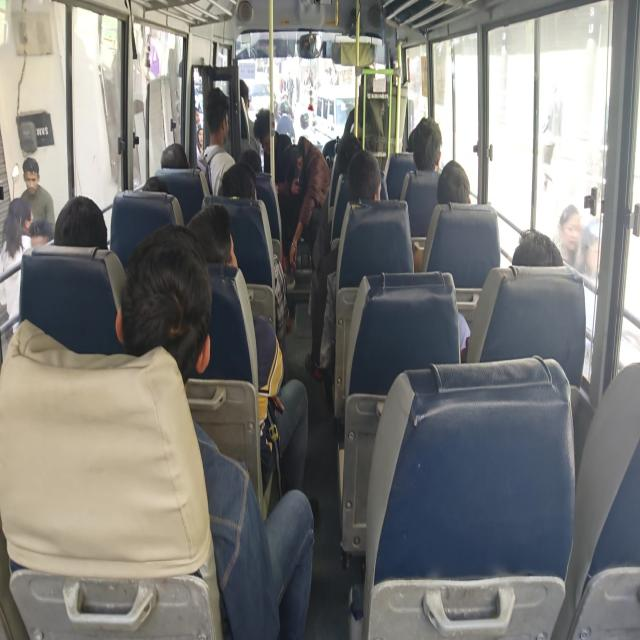person: (117, 227, 211, 380), (183, 199, 244, 281), (49, 188, 111, 258), (510, 221, 567, 282), (345, 144, 384, 210), (220, 153, 260, 213), (198, 83, 234, 147), (409, 111, 442, 176), (436, 156, 470, 214), (154, 137, 194, 179), (251, 103, 280, 159), (278, 142, 310, 190), (337, 130, 358, 174), (141, 166, 168, 200), (233, 74, 253, 115), (360, 62, 378, 95), (242, 144, 262, 172), (406, 121, 419, 154)
